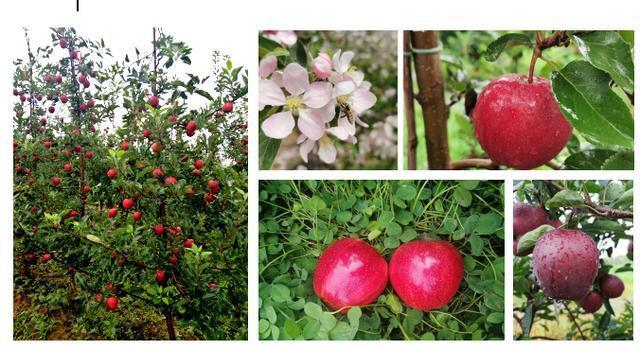apple: (471, 74, 574, 170), (314, 235, 388, 312), (388, 237, 464, 311), (532, 227, 601, 301)
